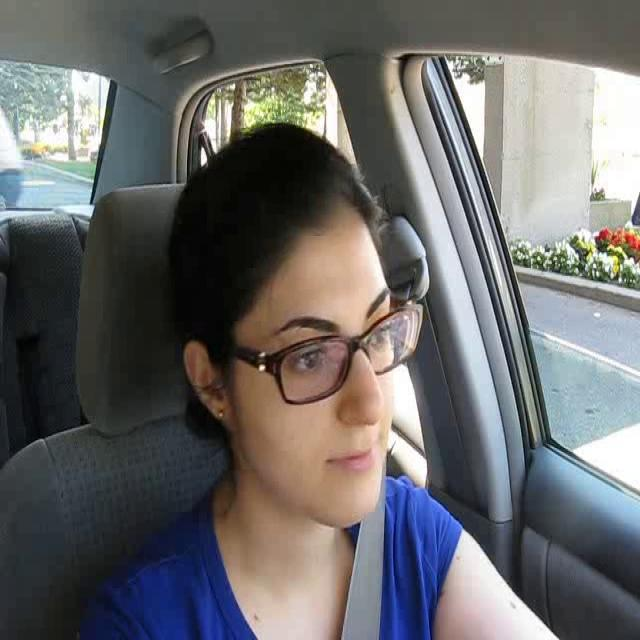close: (323, 438, 381, 478)
